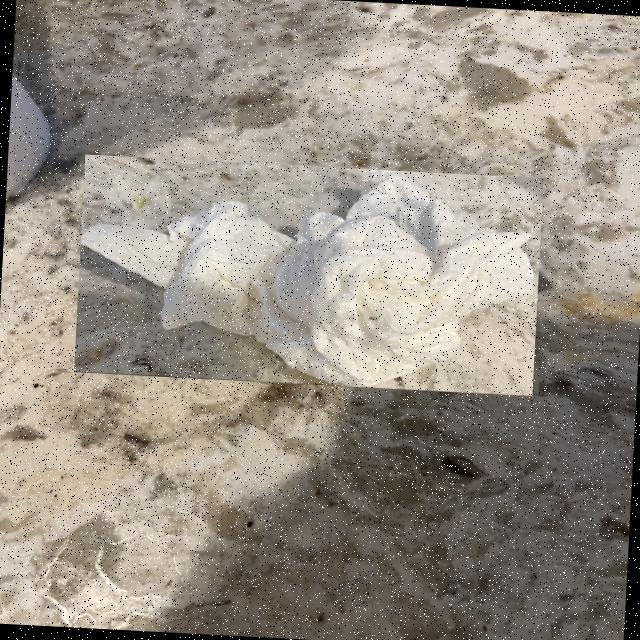Tissues: (81, 170, 538, 386)
